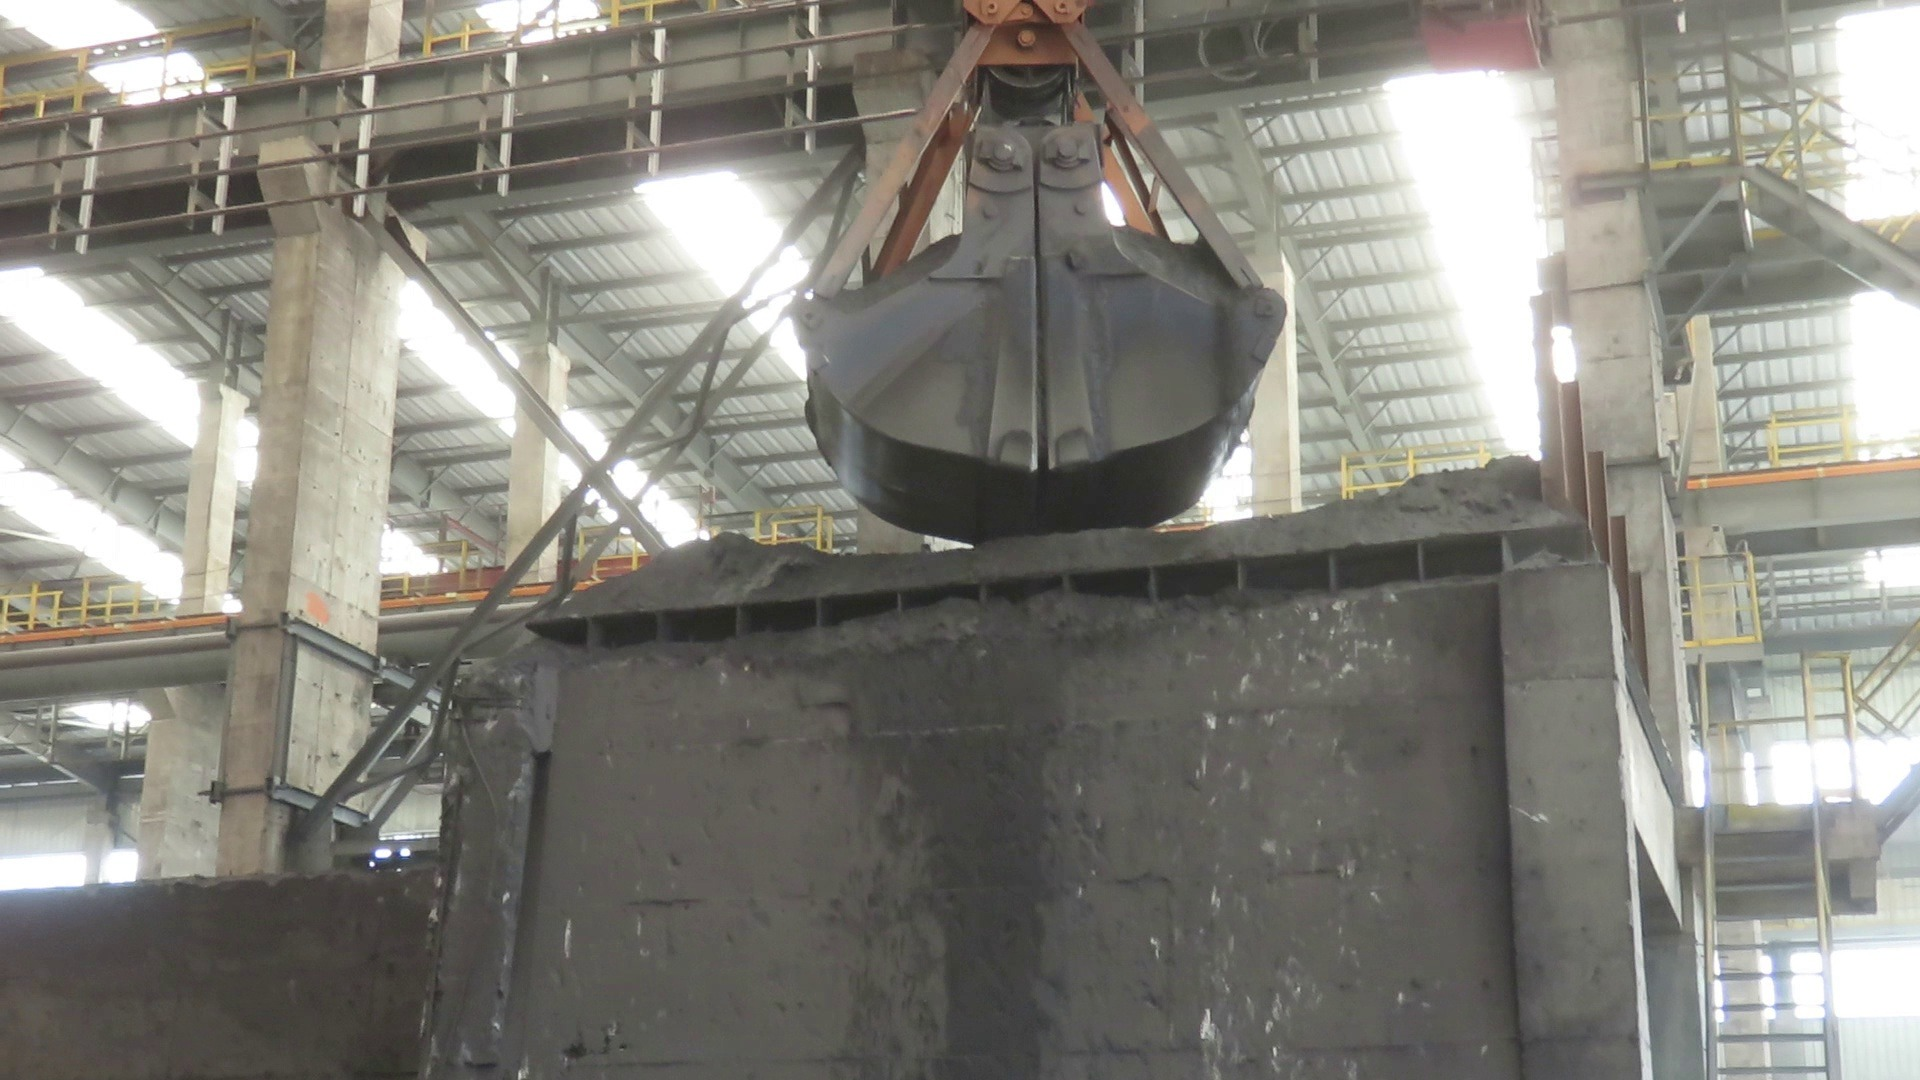grab: (785, 0, 1298, 539)
